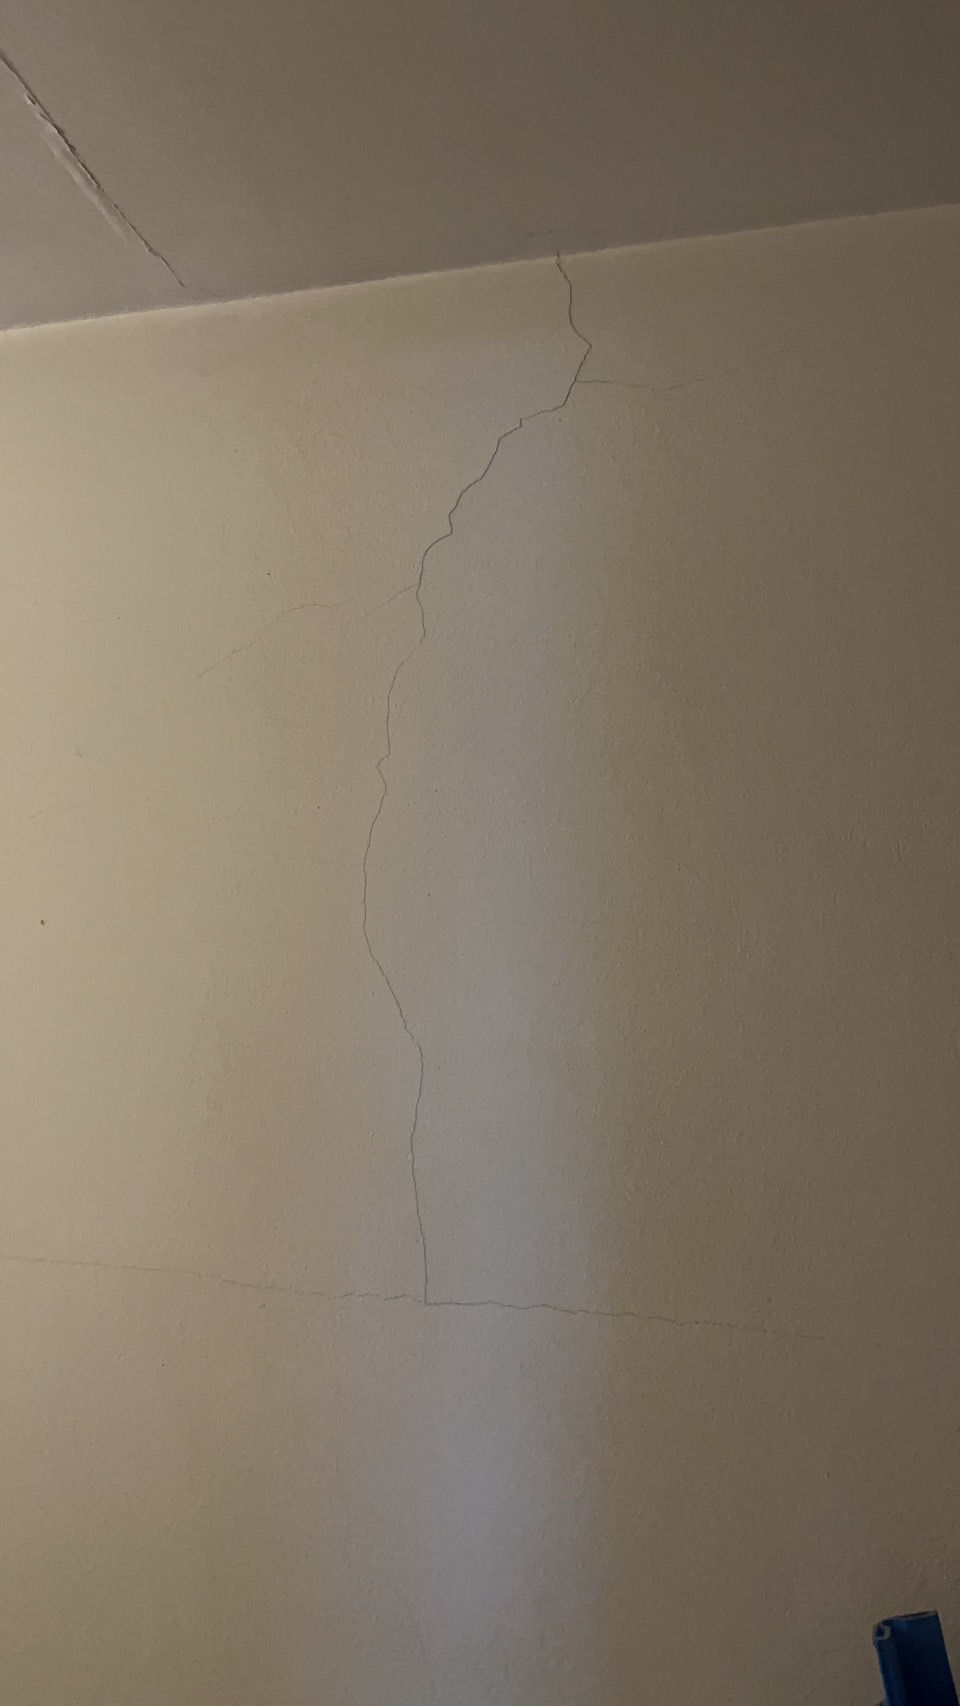Low: (9, 243, 960, 1347)
